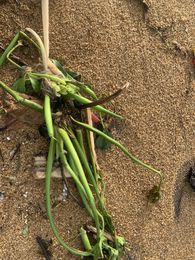water_hyacinth: (2, 28, 132, 258)
